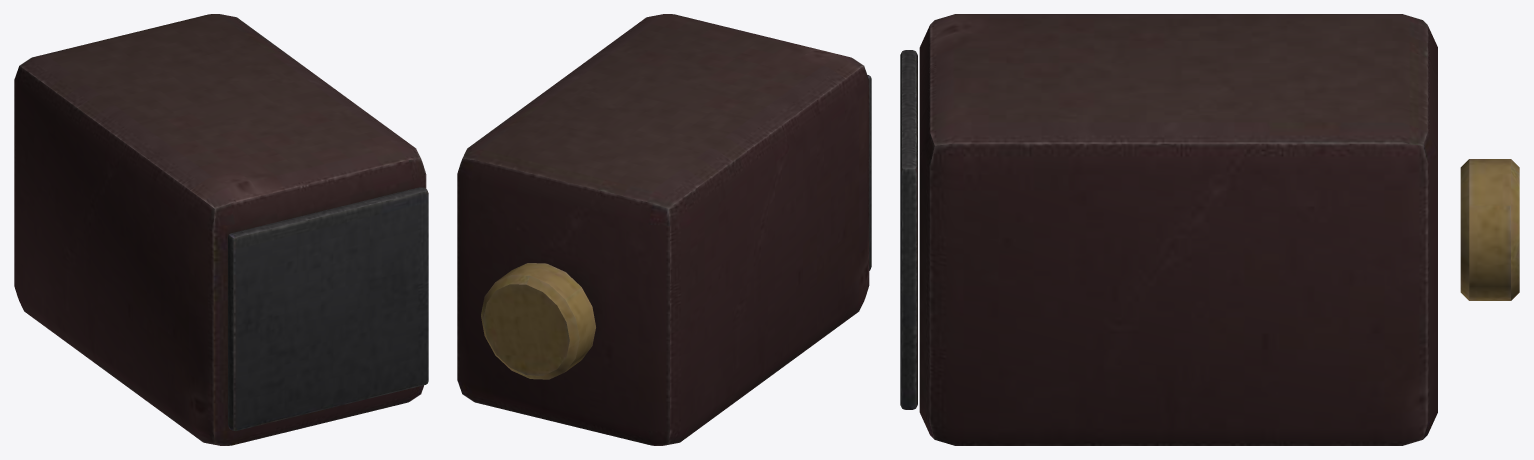
The model's file is explorer_scanner.glb.
3 renders of one model, left to right at view 1: azimuth 30°, elevation 25°; view 2: azimuth 150°, elevation 25°; view 3: azimuth 270°, elevation 25°, orthographic. The views are drawn at different scales.
Visible parts, largest first — view 1: explorer_scanner; view 2: explorer_scanner; view 3: explorer_scanner.
Boxes of the visible parts, left/top/right/bottom form: explorer_scanner: left=14, top=14, right=428, bottom=445; explorer_scanner: left=457, top=14, right=871, bottom=445; explorer_scanner: left=900, top=14, right=1519, bottom=445.
Size of the model in its own units: 0.1104 by 0.1196 by 0.209.
Materials: 1 (1 with a texture image).
